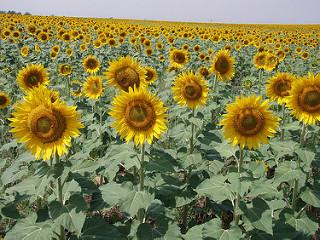sunflower: (7, 84, 87, 162), (110, 86, 170, 146), (221, 91, 281, 151), (104, 54, 150, 95), (288, 74, 320, 122), (171, 72, 209, 111), (18, 61, 51, 99), (267, 71, 303, 103), (211, 48, 240, 82), (253, 49, 280, 73), (83, 75, 106, 102), (82, 55, 104, 75), (171, 50, 192, 70)
